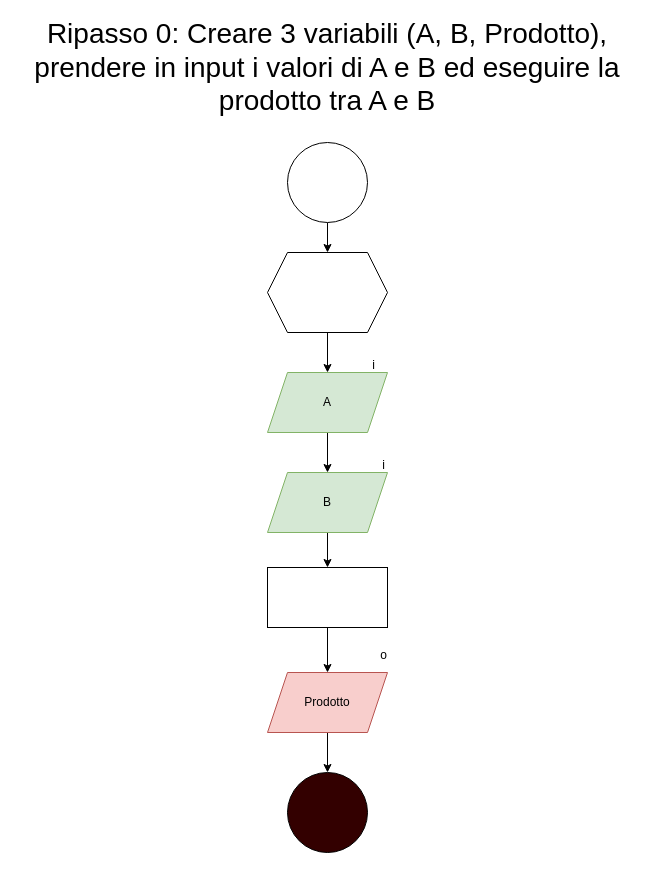
Some shapes in this 654 by 870 pixel diagram are drawn without their labels. Here are the shapes that lost their labels. From the top down, the centre of each, then its label:
At (x=327, y=292): "A, B, Prodotto".
At (x=327, y=597): "Prodotto = A * B".
